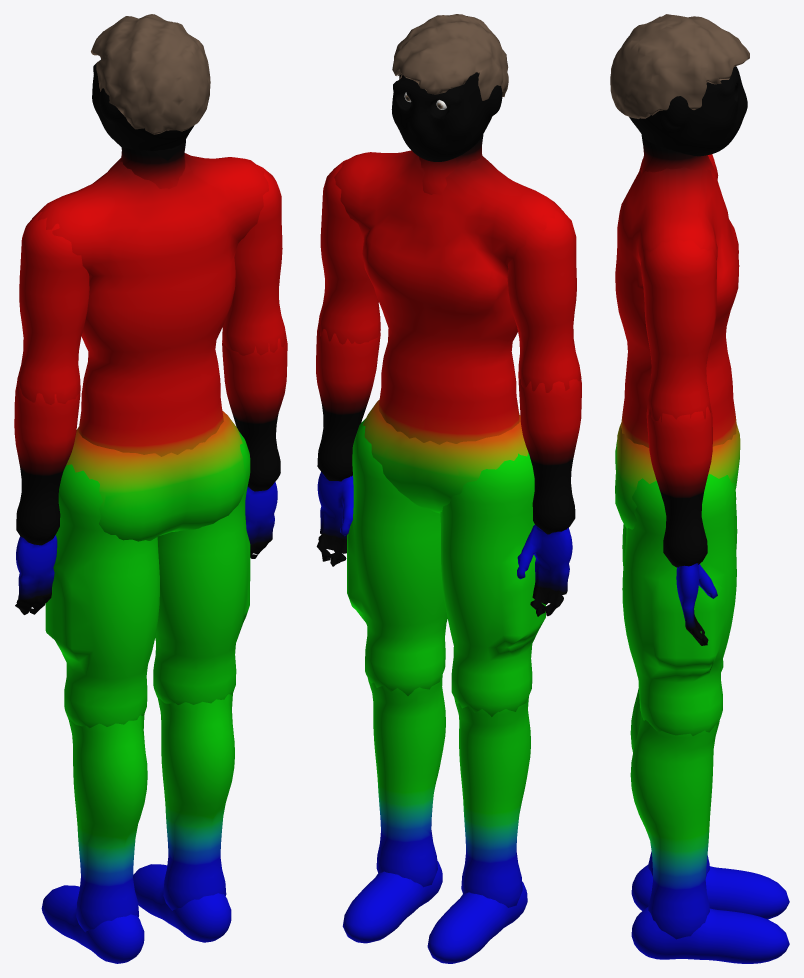
The model's file is avatar_male.glb.
The picture shows the model from 3 angles, left to right: view 1: azimuth 30°, elevation 25°; view 2: azimuth 150°, elevation 25°; view 3: azimuth 270°, elevation 25°; orthographic projection. The views are drawn at different scales.
Parts seen in each view (by area): view 1: Spine, Thigh_L, Thigh_R, Hips, Shin_L, Shin_R, Hair, UpperArm_L, Forearm_L, UpperArm_R, Forearm_R, Foot_L (+5 smaller); view 2: Spine, Thigh_L, Thigh_R, Shin_R, Shin_L, UpperArm_L, Hips, Forearm_L, Hair, UpperArm_R, Forearm_R, Head (+5 smaller); view 3: Thigh_R, Spine, Shin_R, UpperArm_R, Hair, Forearm_R, Foot_R, Head, Foot_L, Hips, Hand_R, Neck (+1 smaller).
Boxes of the visible parts, <box> form: Spine: <box>31,153,268,456</box>; Thigh_L: <box>45,464,159,728</box>; Thigh_R: <box>153,431,250,704</box>; Hips: <box>66,411,246,541</box>; Shin_L: <box>68,714,147,932</box>; Shin_R: <box>157,694,234,910</box>; Hair: <box>91,14,210,134</box>; UpperArm_L: <box>16,212,89,404</box>; Forearm_L: <box>14,384,80,545</box>; UpperArm_R: <box>222,165,286,355</box>; Forearm_R: <box>222,335,287,491</box>; Foot_L: <box>41,885,144,963</box>; Spine: <box>334,150,564,444</box>; Thigh_L: <box>440,453,545,716</box>; Thigh_R: <box>347,418,447,695</box>; Shin_R: <box>368,675,445,887</box>; Shin_L: <box>454,696,530,907</box>; UpperArm_L: <box>507,206,581,392</box>; Hips: <box>363,399,528,513</box>; Forearm_L: <box>518,379,581,534</box>; Hair: <box>392,14,508,100</box>; UpperArm_R: <box>318,159,380,344</box>; Forearm_R: <box>316,321,380,481</box>; Head: <box>391,72,502,161</box>; Thigh_R: <box>622,474,736,735</box>; Spine: <box>615,154,739,447</box>; Shin_R: <box>630,713,719,939</box>; UpperArm_R: <box>641,239,716,422</box>; Hair: <box>610,14,749,118</box>; Forearm_R: <box>646,402,712,567</box>; Foot_R: <box>631,907,789,963</box>; Head: <box>629,66,747,156</box>; Foot_L: <box>631,865,789,919</box>; Hips: <box>615,423,740,529</box>; Hand_R: <box>676,563,717,645</box>; Neck: <box>641,135,717,185</box>.
Size of the model in its own units: 0.5464 by 1.83 by 0.3237.
